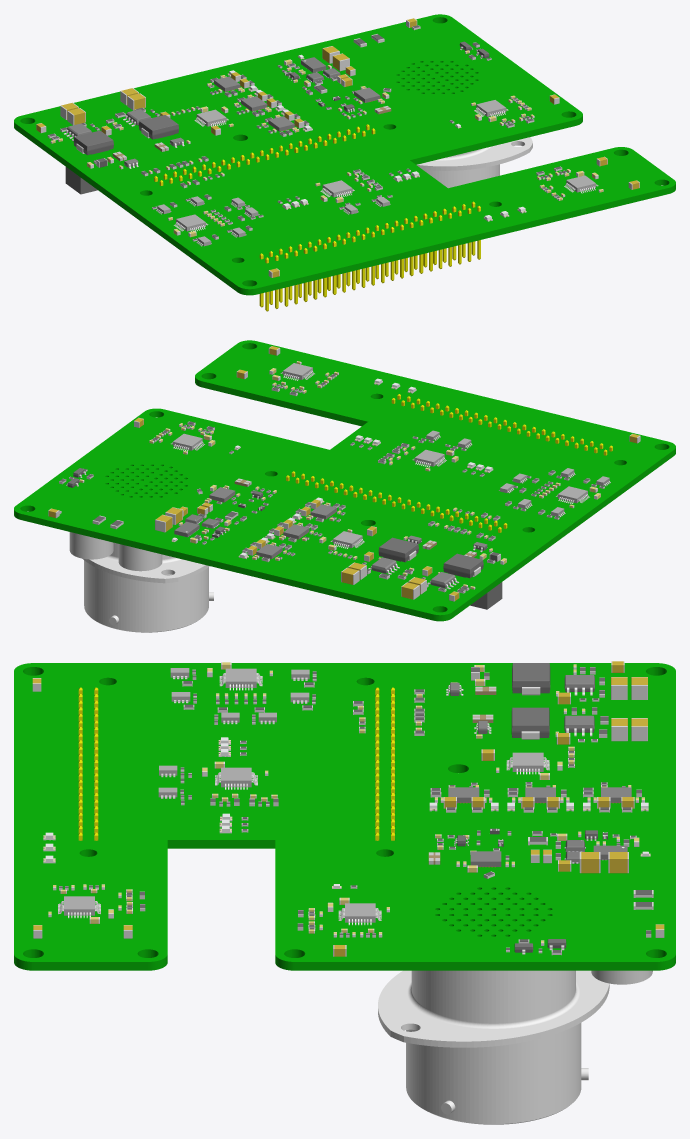
File: vespula-avionics-module.glb
3 renders of one model, top to bottom at view 1: azimuth 30°, elevation 25°; view 2: azimuth 150°, elevation 25°; view 3: azimuth 270°, elevation 25°, orthographic. The views are drawn at different scales.
Visible parts, largest first — view 1: Node26, Node2, Node3, Node25, Node6, Node11, Node20, Node4, Node8, Node10, Node9, Node7 (+3 smaller); view 2: Node26, Node25, Node3, Node6, Node2, Node20, Node11, Node4, Node8, Node10, Node9, Node7 (+3 smaller); view 3: Node26, Node25, Node3, Node6, Node11, Node20, Node2, Node8, Node4, Node10, Node9, Node5 (+4 smaller).
Boxes of the visible parts, box(x1,y1,x2,y2) form: Node26: box(14, 14, 675, 295); Node2: box(154, 124, 480, 311); Node3: box(36, 18, 639, 277); Node25: box(416, 137, 532, 188); Node6: box(158, 100, 595, 246); Node11: box(36, 18, 639, 277); Node20: box(67, 76, 592, 228); Node4: box(73, 41, 489, 155); Node8: box(49, 25, 566, 240); Node10: box(51, 50, 602, 236); Node9: box(50, 50, 603, 237); Node7: box(50, 27, 564, 241); Node26: box(14, 340, 675, 621); Node25: box(82, 542, 213, 632); Node3: box(48, 346, 640, 601); Node6: box(173, 363, 609, 548); Node2: box(286, 394, 612, 532); Node20: box(209, 375, 584, 588); Node11: box(49, 346, 639, 600); Node4: box(67, 468, 483, 578); Node8: box(59, 374, 603, 591); Node10: box(79, 361, 600, 589); Node9: box(79, 361, 600, 589); Node7: box(62, 375, 603, 593); Node26: box(14, 663, 675, 970); Node25: box(378, 970, 609, 1124); Node3: box(32, 661, 664, 984); Node6: box(64, 668, 543, 922); Node11: box(32, 661, 664, 956); Node20: box(73, 675, 631, 919); Node2: box(78, 687, 394, 840); Node8: box(59, 667, 651, 952); Node4: box(457, 663, 597, 952); Node10: box(48, 662, 644, 942); Node9: box(48, 662, 644, 945); Node5: box(58, 673, 650, 925).
Bounding box in the file's own units: 115 × 34.21 × 108.
